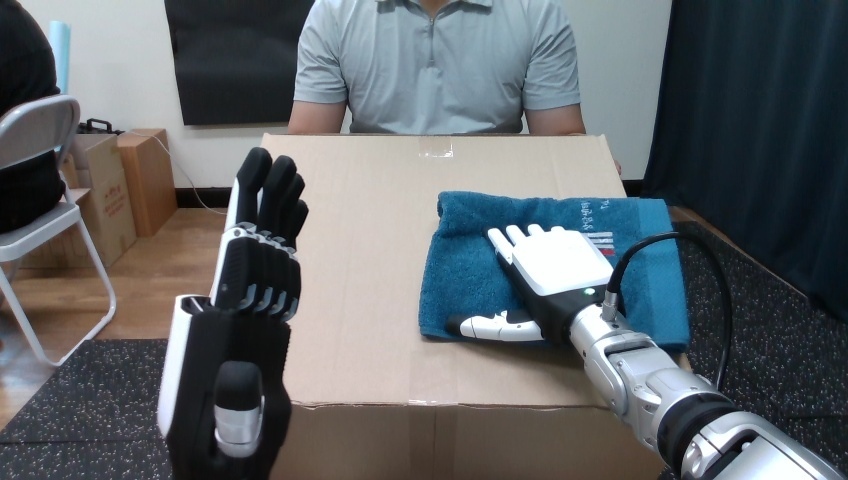left robot hand: (157, 147, 307, 478), (674, 222, 847, 474)
